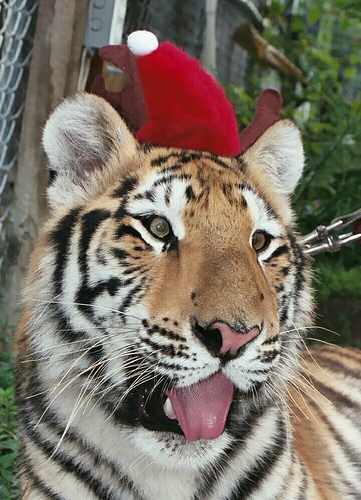Tigre: (17, 65, 359, 494)
